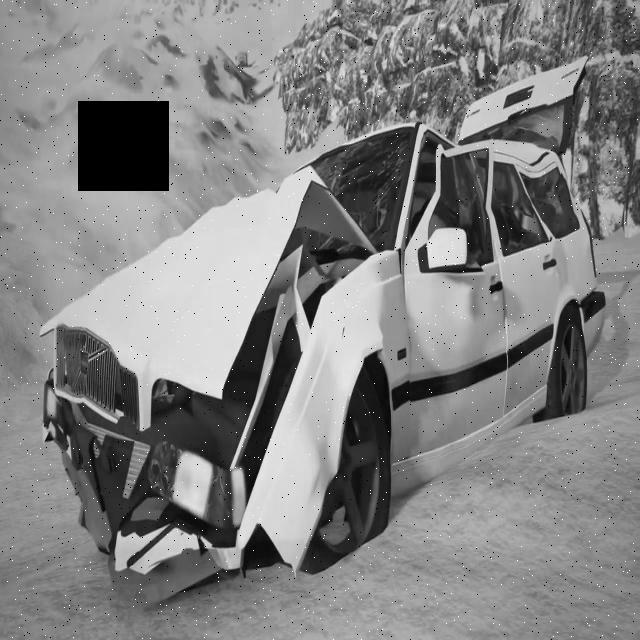severe: (33, 50, 611, 592)
